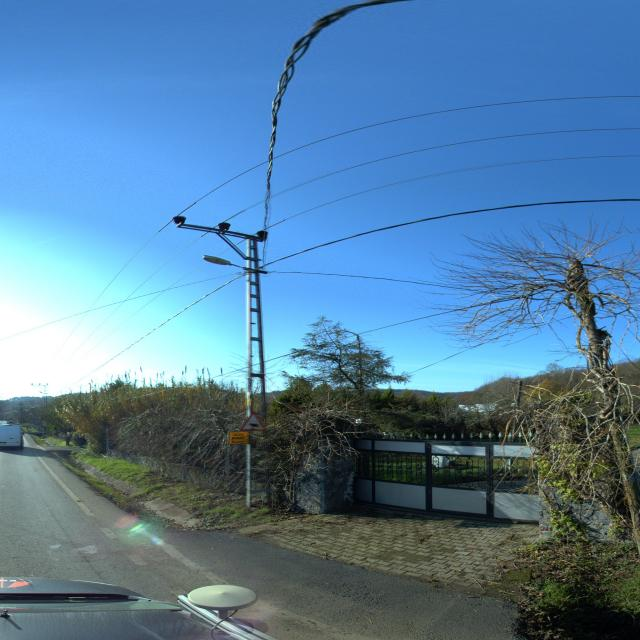Utility Pole Information Plate: (245, 399, 252, 406)
